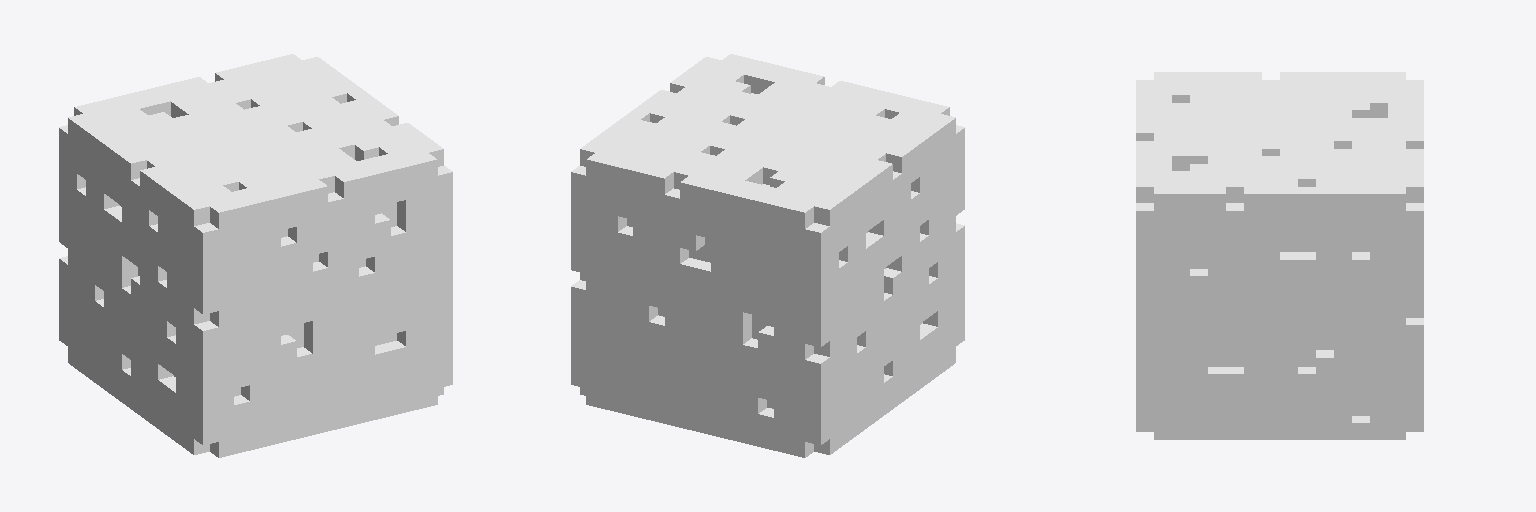
Rendered from garden_wall.obj.
3 renders of one model, left to right at view 1: azimuth 30°, elevation 25°; view 2: azimuth 150°, elevation 25°; view 3: azimuth 270°, elevation 25°, orthographic.
Size of the model in its own units: 16 by 15 by 16.